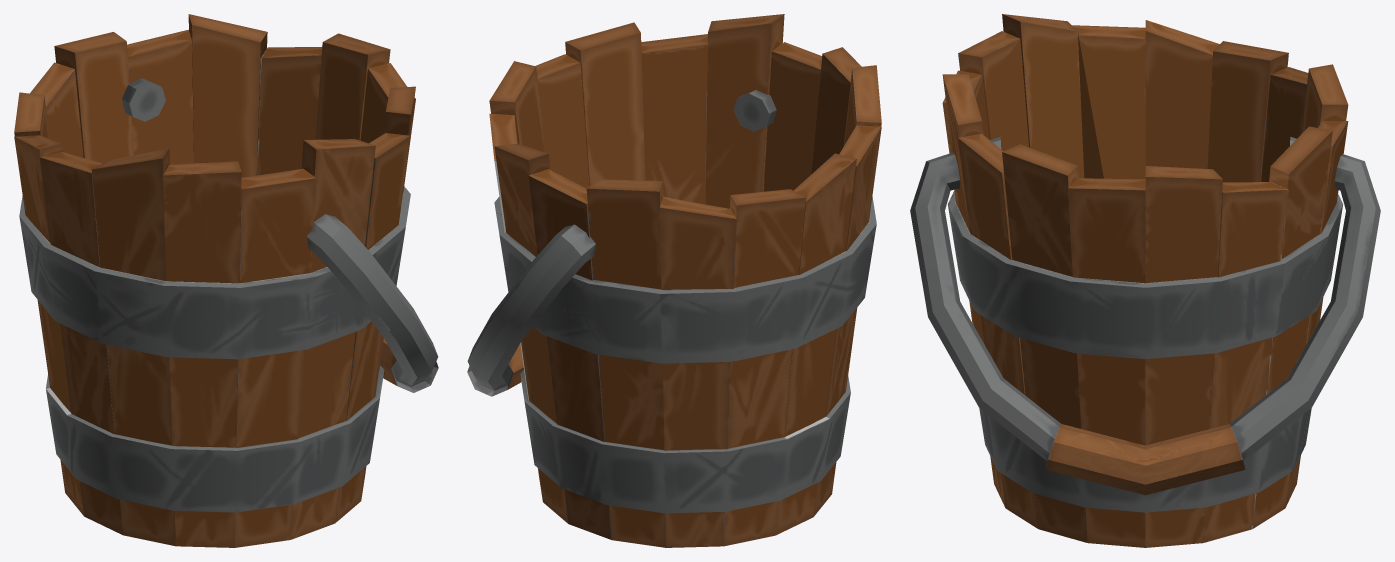
File: Balde.fbx
3 views of the same model, side by side, from view 1: azimuth 30°, elevation 25°; view 2: azimuth 150°, elevation 25°; view 3: azimuth 270°, elevation 25° (orthographic). The views are drawn at different scales.
Parts seen in each view (by area): view 1: Balde_low, Faixacima_low, Faixabaixo_low, Cabo_low; view 2: Balde_low, Faixacima_low, Faixabaixo_low, Cabo_low; view 3: Balde_low, Cabo_low, Faixacima_low, Faixabaixo_low.
Part boxes in pixels (x1,y1,x2,y2): Balde_low: (14, 14, 415, 547); Faixacima_low: (19, 186, 410, 359); Faixabaixo_low: (46, 365, 384, 512); Cabo_low: (122, 78, 438, 392); Balde_low: (489, 14, 881, 547); Faixacima_low: (494, 196, 876, 363); Faixabaixo_low: (520, 370, 850, 513); Cabo_low: (467, 90, 776, 396); Balde_low: (942, 14, 1348, 547); Cabo_low: (910, 136, 1380, 495); Faixacima_low: (947, 191, 1343, 359); Faixabaixo_low: (979, 408, 1311, 512).
Size of the model in its own units: 200 by 215 by 224.
